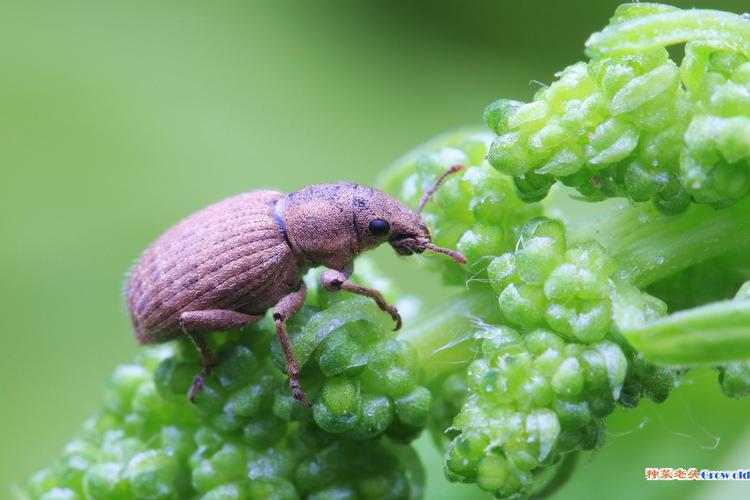Curculionidae: (122, 162, 469, 409)
